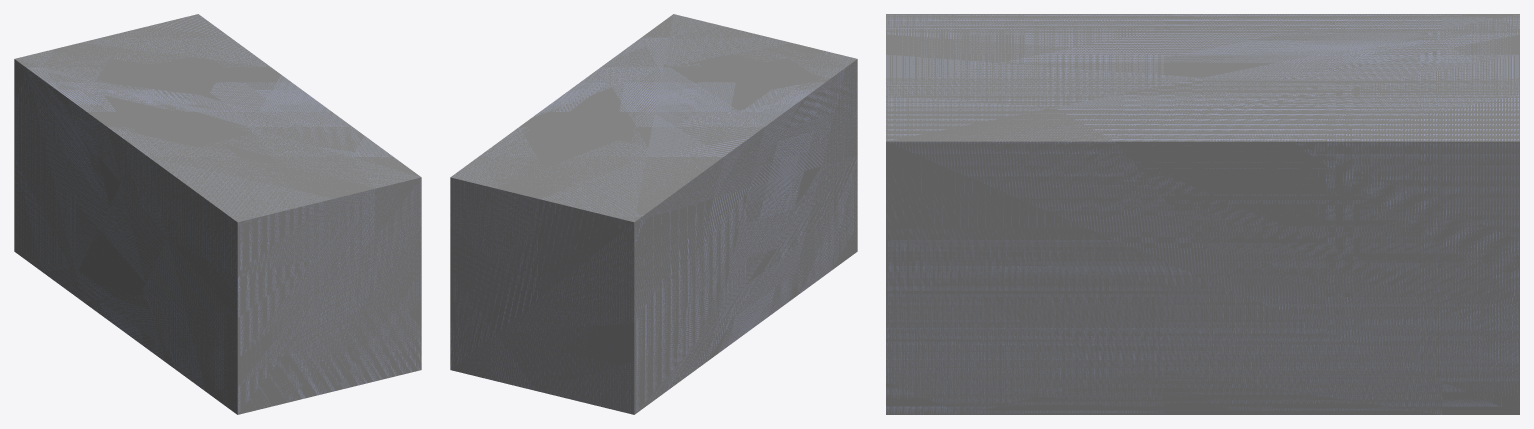
File: stone_block.dae
3 views of the same model, side by side, from view 1: azimuth 30°, elevation 25°; view 2: azimuth 150°, elevation 25°; view 3: azimuth 270°, elevation 25° (orthographic). The views are drawn at different scales.
Parts seen in each view (by area): view 1: SketchUp; view 2: SketchUp; view 3: SketchUp.
Part boxes in pixels (x1,y1,x2,y2): SketchUp: (14,14,421,414); SketchUp: (450,14,857,414); SketchUp: (886,14,1519,414).
Size of the model in its own units: 12 by 25.2 by 12.
